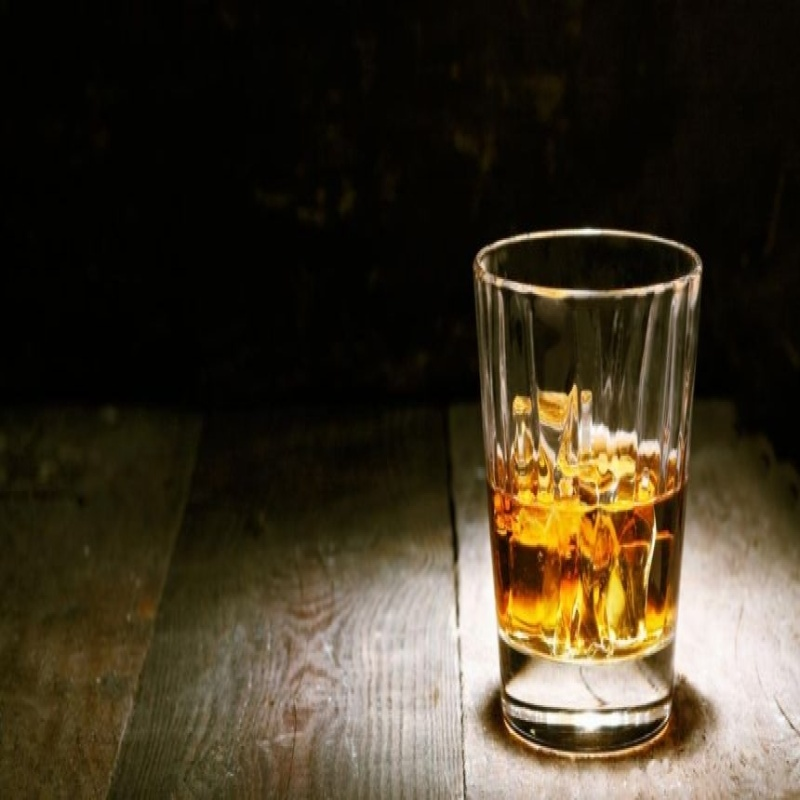whiskey: (478, 225, 695, 738)
